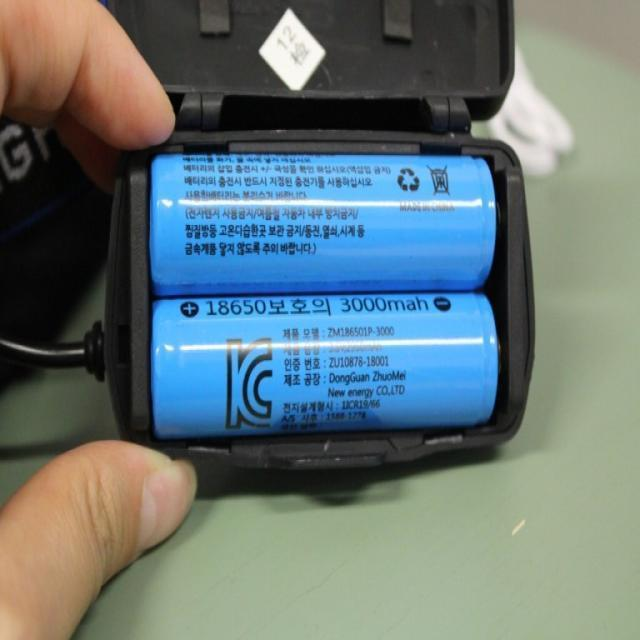Hazard: (150, 290, 504, 443), (149, 154, 498, 298)
